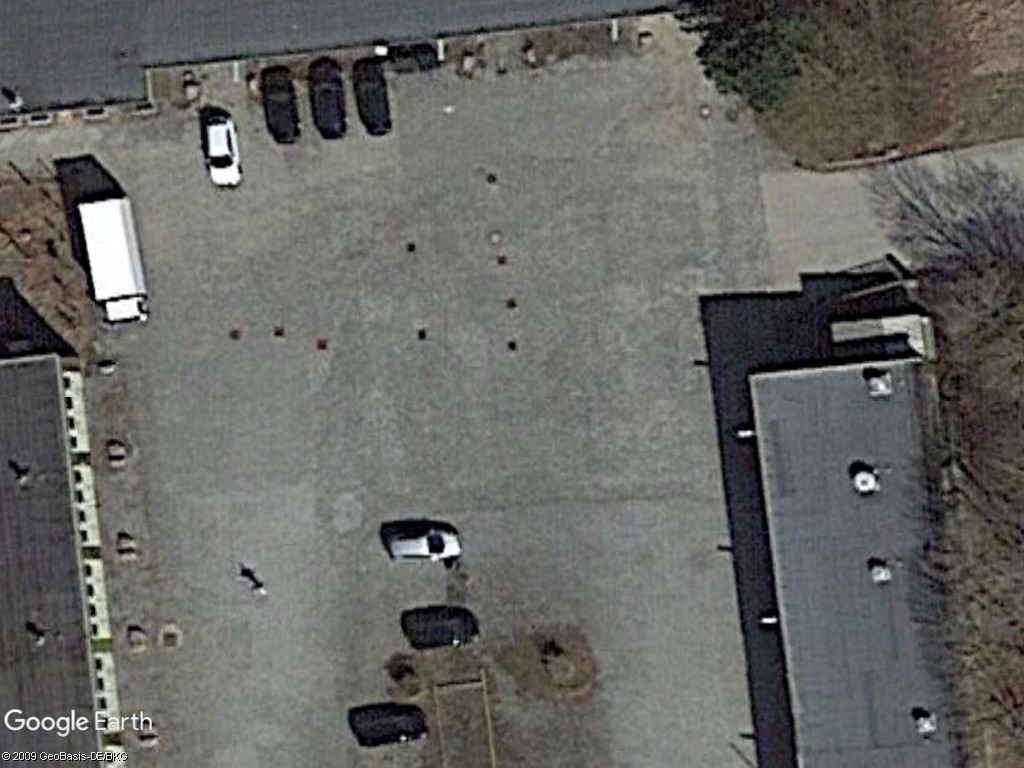car: (382, 523, 465, 566), (201, 112, 246, 190)
truck: (73, 197, 153, 328)
